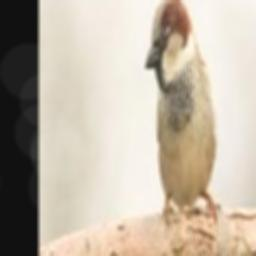Sparrow: (145, 0, 220, 233)
